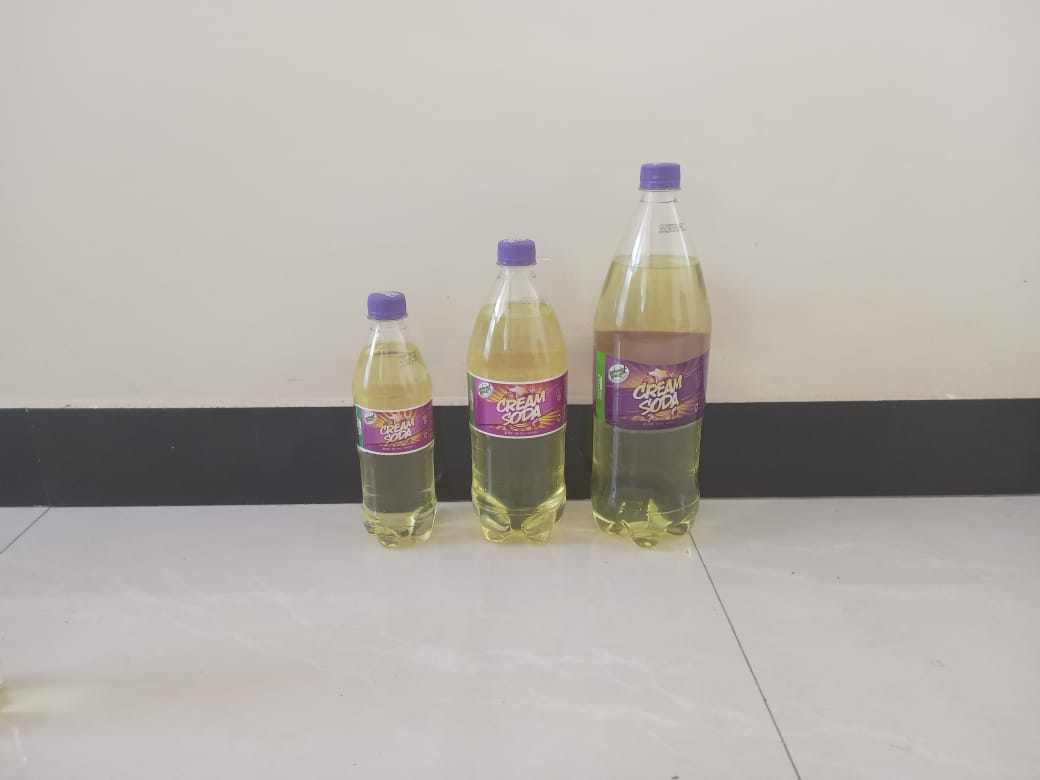L: (589, 162, 712, 547)
M: (470, 239, 568, 547)
S: (349, 294, 440, 550)
